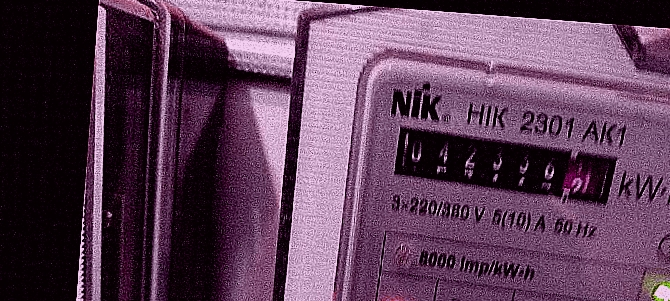0: (408, 134, 423, 164)
2: (460, 140, 480, 169)
3: (486, 142, 505, 172), (515, 145, 531, 174)
4: (434, 137, 452, 165)
6: (540, 153, 557, 181)
screen: (380, 116, 626, 214)
